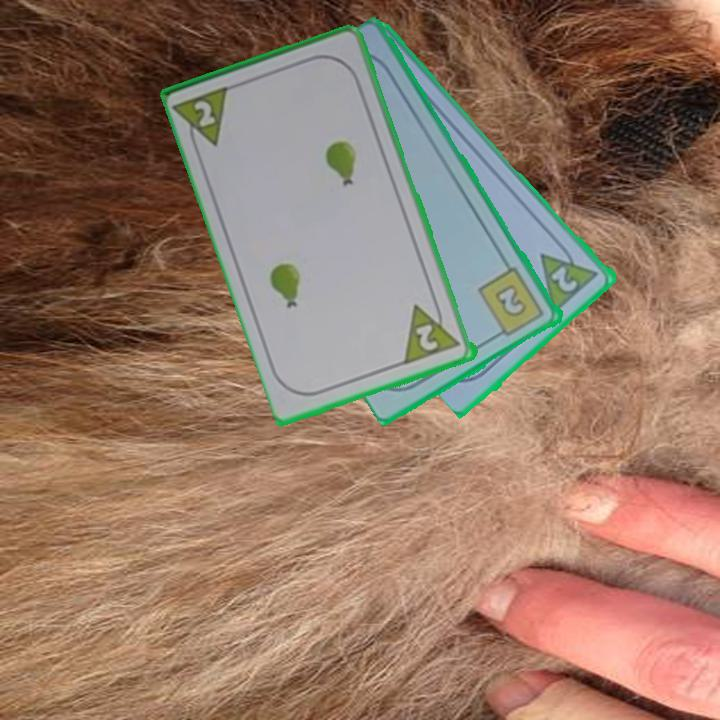2b: (475, 264, 548, 341)
2p: (548, 262, 582, 296), (412, 320, 442, 354), (191, 97, 219, 131)
